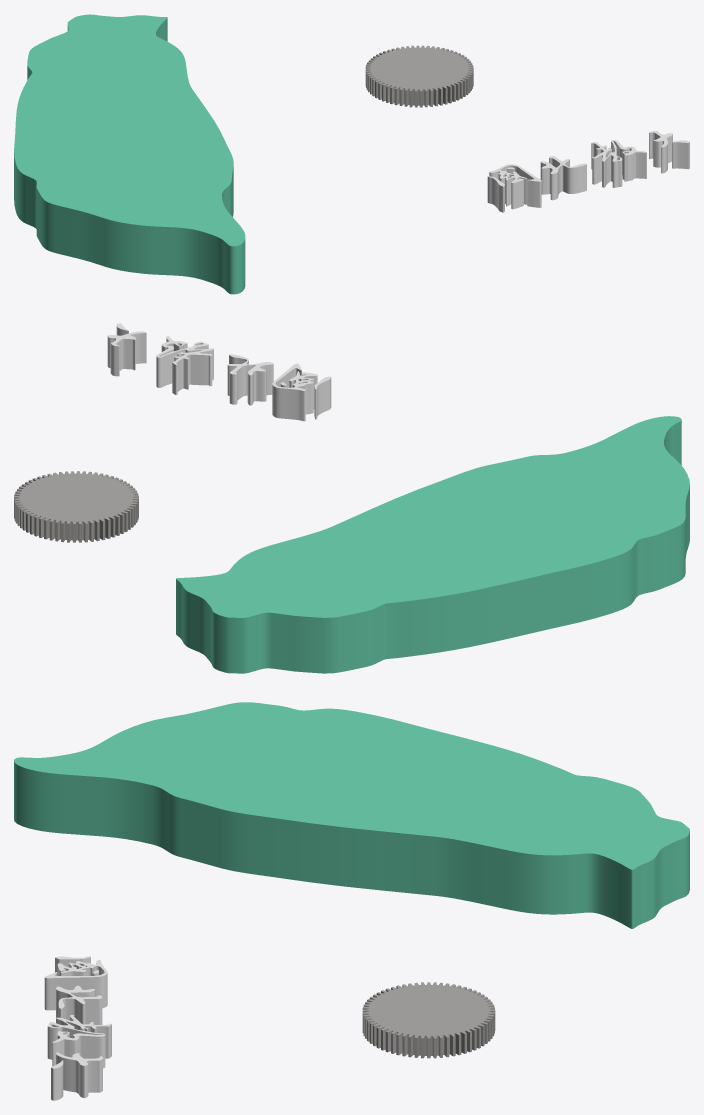
Rendered from 矩陣圖騰練習.glb.
The picture shows the model from 3 angles, top to bottom: view 1: azimuth 30°, elevation 25°; view 2: azimuth 150°, elevation 25°; view 3: azimuth 270°, elevation 25°; orthographic projection. The views are drawn at different scales.
Bounding box in the file's own units: 0.0726 × 0.0059 × 0.0611.
